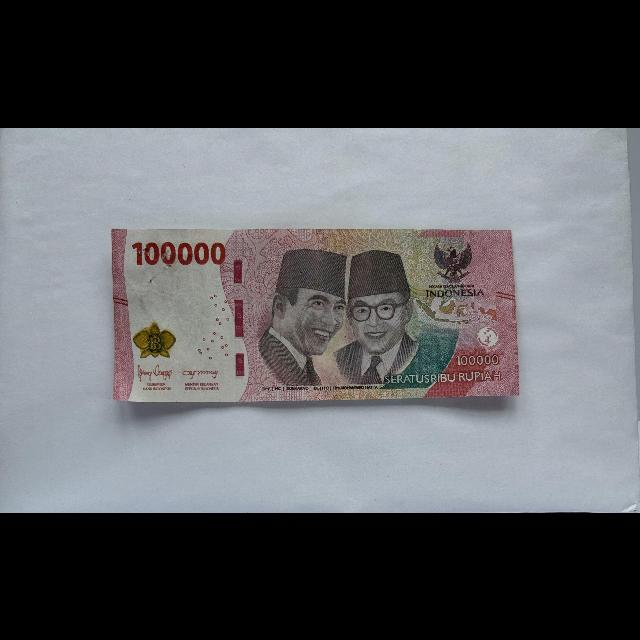Palsu-100k: (110, 226, 521, 403)
Tinta-Palsu-100k: (133, 322, 178, 359)
